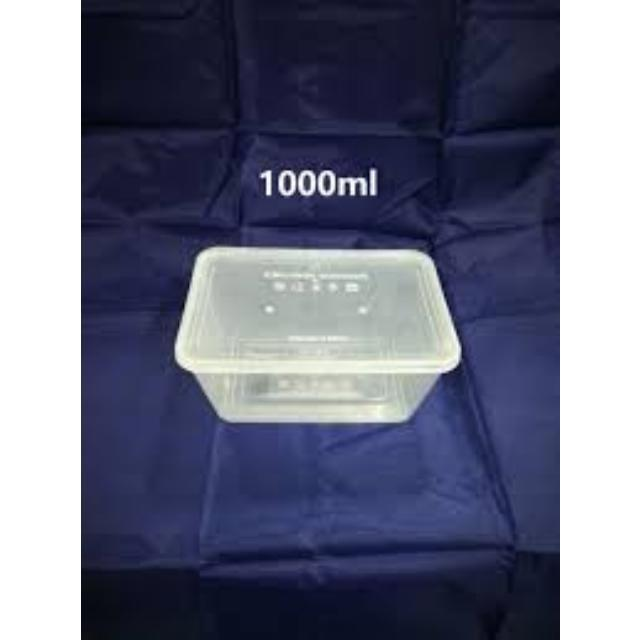Recipiente plastico: (174, 249, 462, 425)
